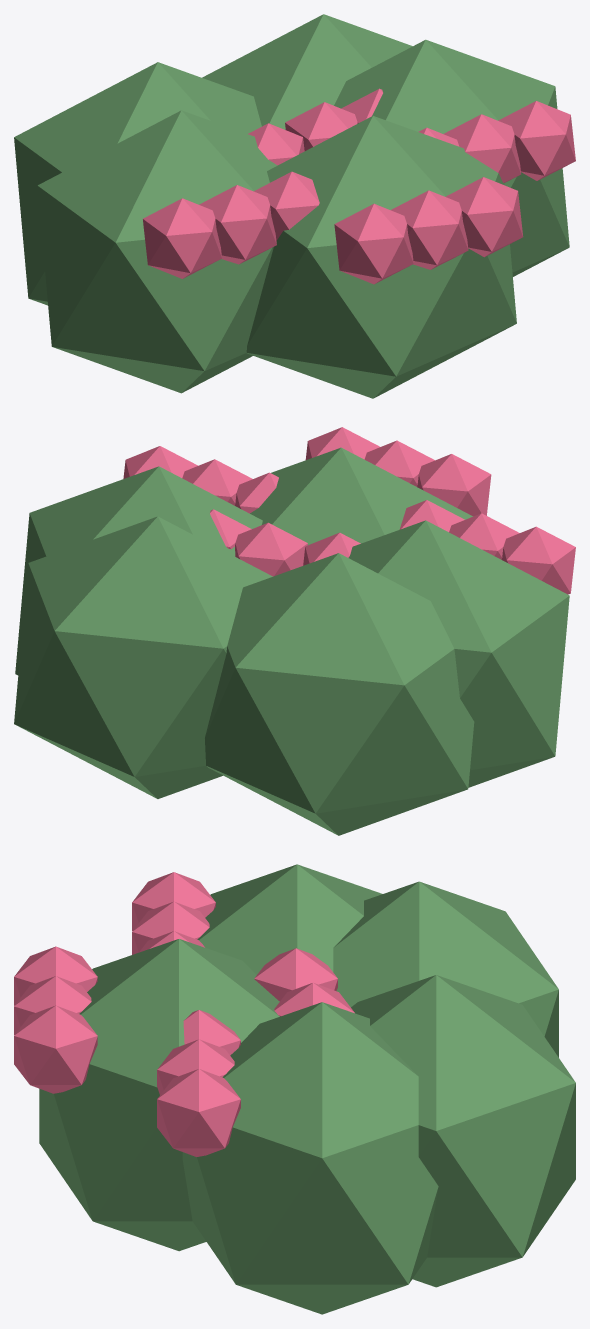
File: nature_flowering_bush.glb
The picture shows the model from 3 angles, top to bottom: view 1: azimuth 30°, elevation 25°; view 2: azimuth 150°, elevation 25°; view 3: azimuth 270°, elevation 25°; orthographic projection. The views are drawn at different scales.
Visible parts, largest first — view 1: nature_flowering_bush; view 2: nature_flowering_bush; view 3: nature_flowering_bush.
Part boxes in pixels (x1,y1,x2,y2): nature_flowering_bush: (14,14,575,398); nature_flowering_bush: (14,427,575,835); nature_flowering_bush: (14,864,575,1314).
Bounding box in the file's own units: 1.6 × 0.84 × 1.37.
